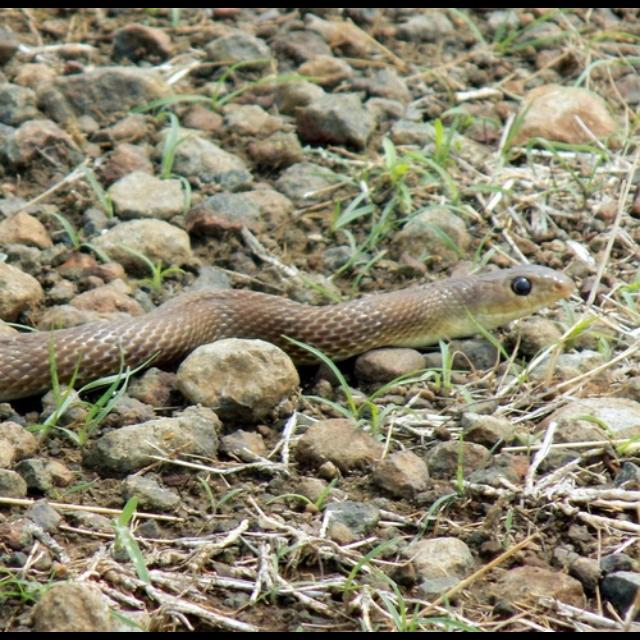snake: (0, 264, 578, 386)
